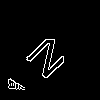N: (23, 24, 82, 82)
